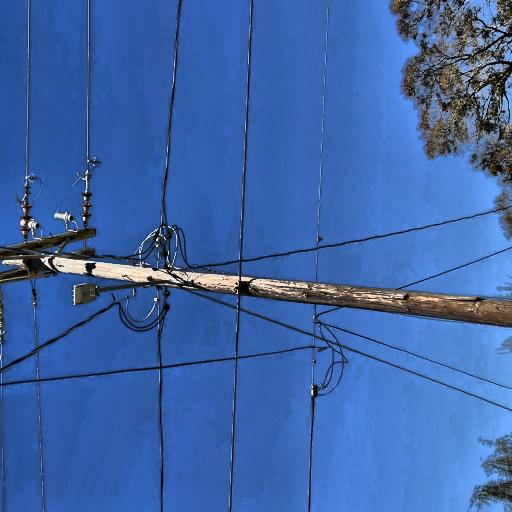pole: (22, 101, 145, 512)
street light: (84, 190, 110, 333)
